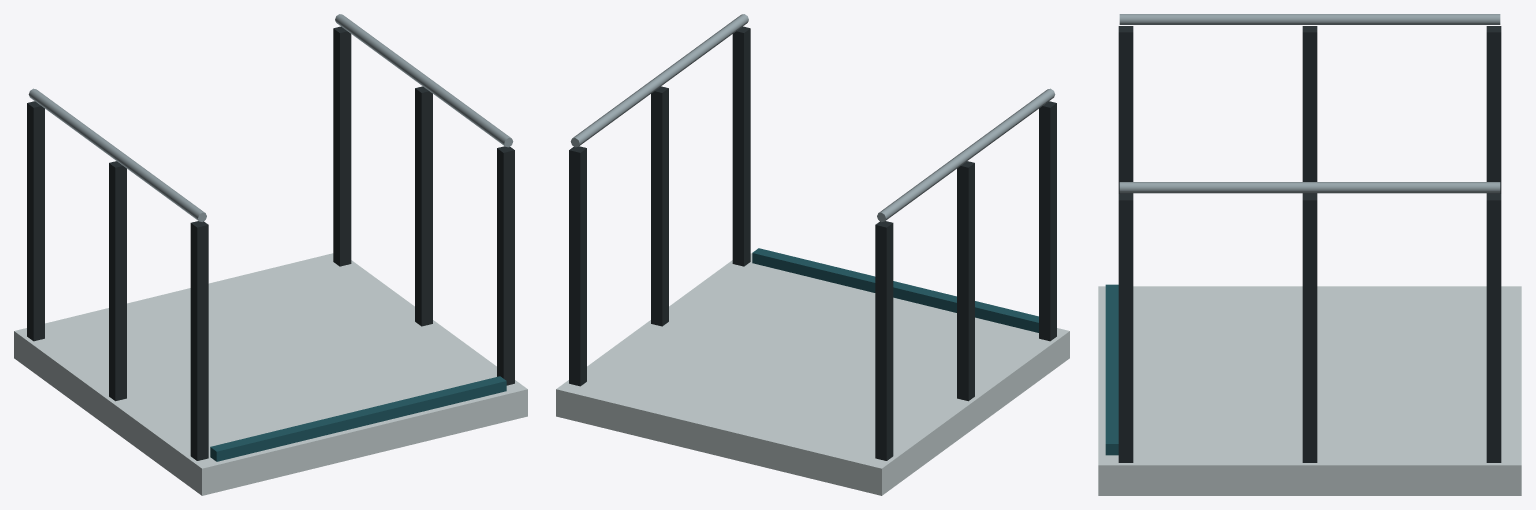
Rendered from SM_StationHoldingLane.fbx.
3 renders of one model, left to right at view 1: azimuth 30°, elevation 25°; view 2: azimuth 150°, elevation 25°; view 3: azimuth 270°, elevation 25°, orthographic. The views are drawn at different scales.
Visible parts, largest first — view 1: SM_StationHoldingLane_UEExport; view 2: SM_StationHoldingLane_UEExport; view 3: SM_StationHoldingLane_UEExport.
Boxes of the visible parts, <box> form: SM_StationHoldingLane_UEExport: <box>14,14,527,495</box>; SM_StationHoldingLane_UEExport: <box>556,14,1069,495</box>; SM_StationHoldingLane_UEExport: <box>1098,14,1521,495</box>.
Bounding box in the file's own units: 200 × 200 × 161.
